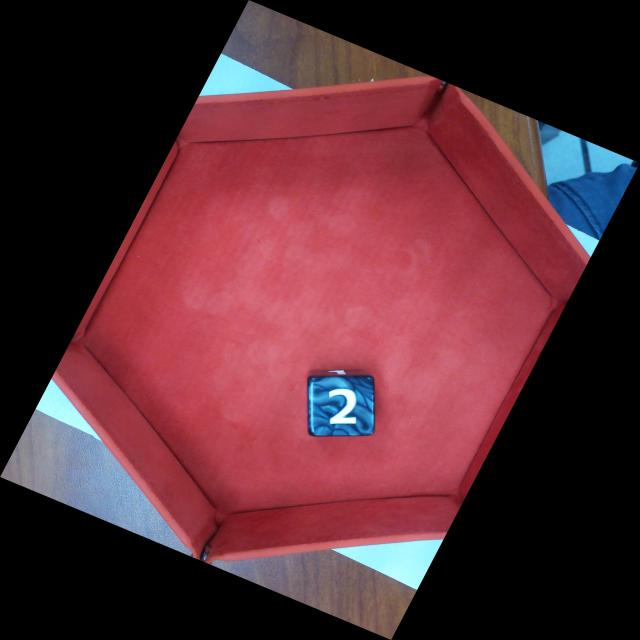dice: (306, 374, 377, 441)
